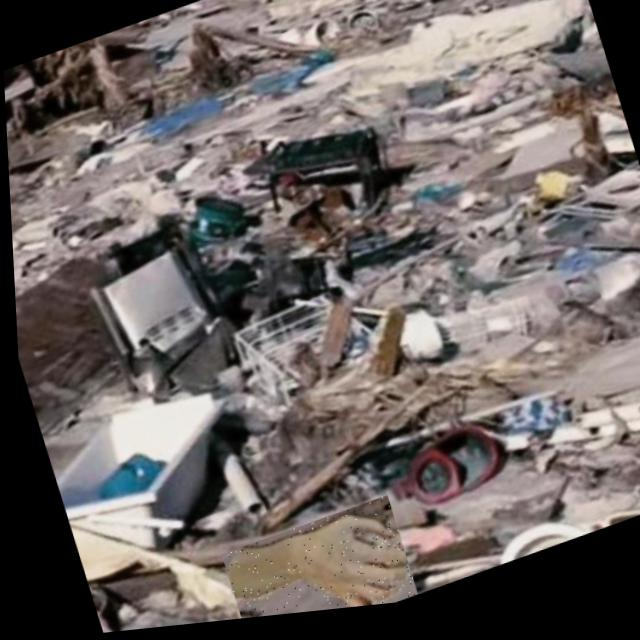Person in Rubble: (213, 500, 410, 624)
